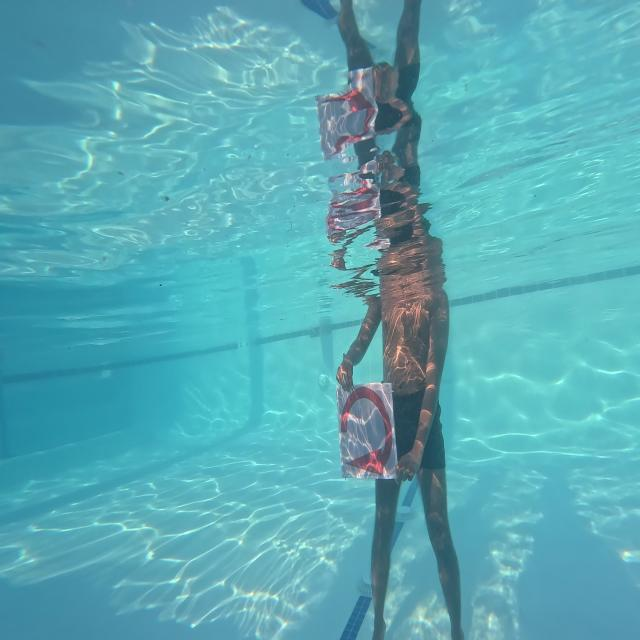red_side: (328, 378, 404, 491)
